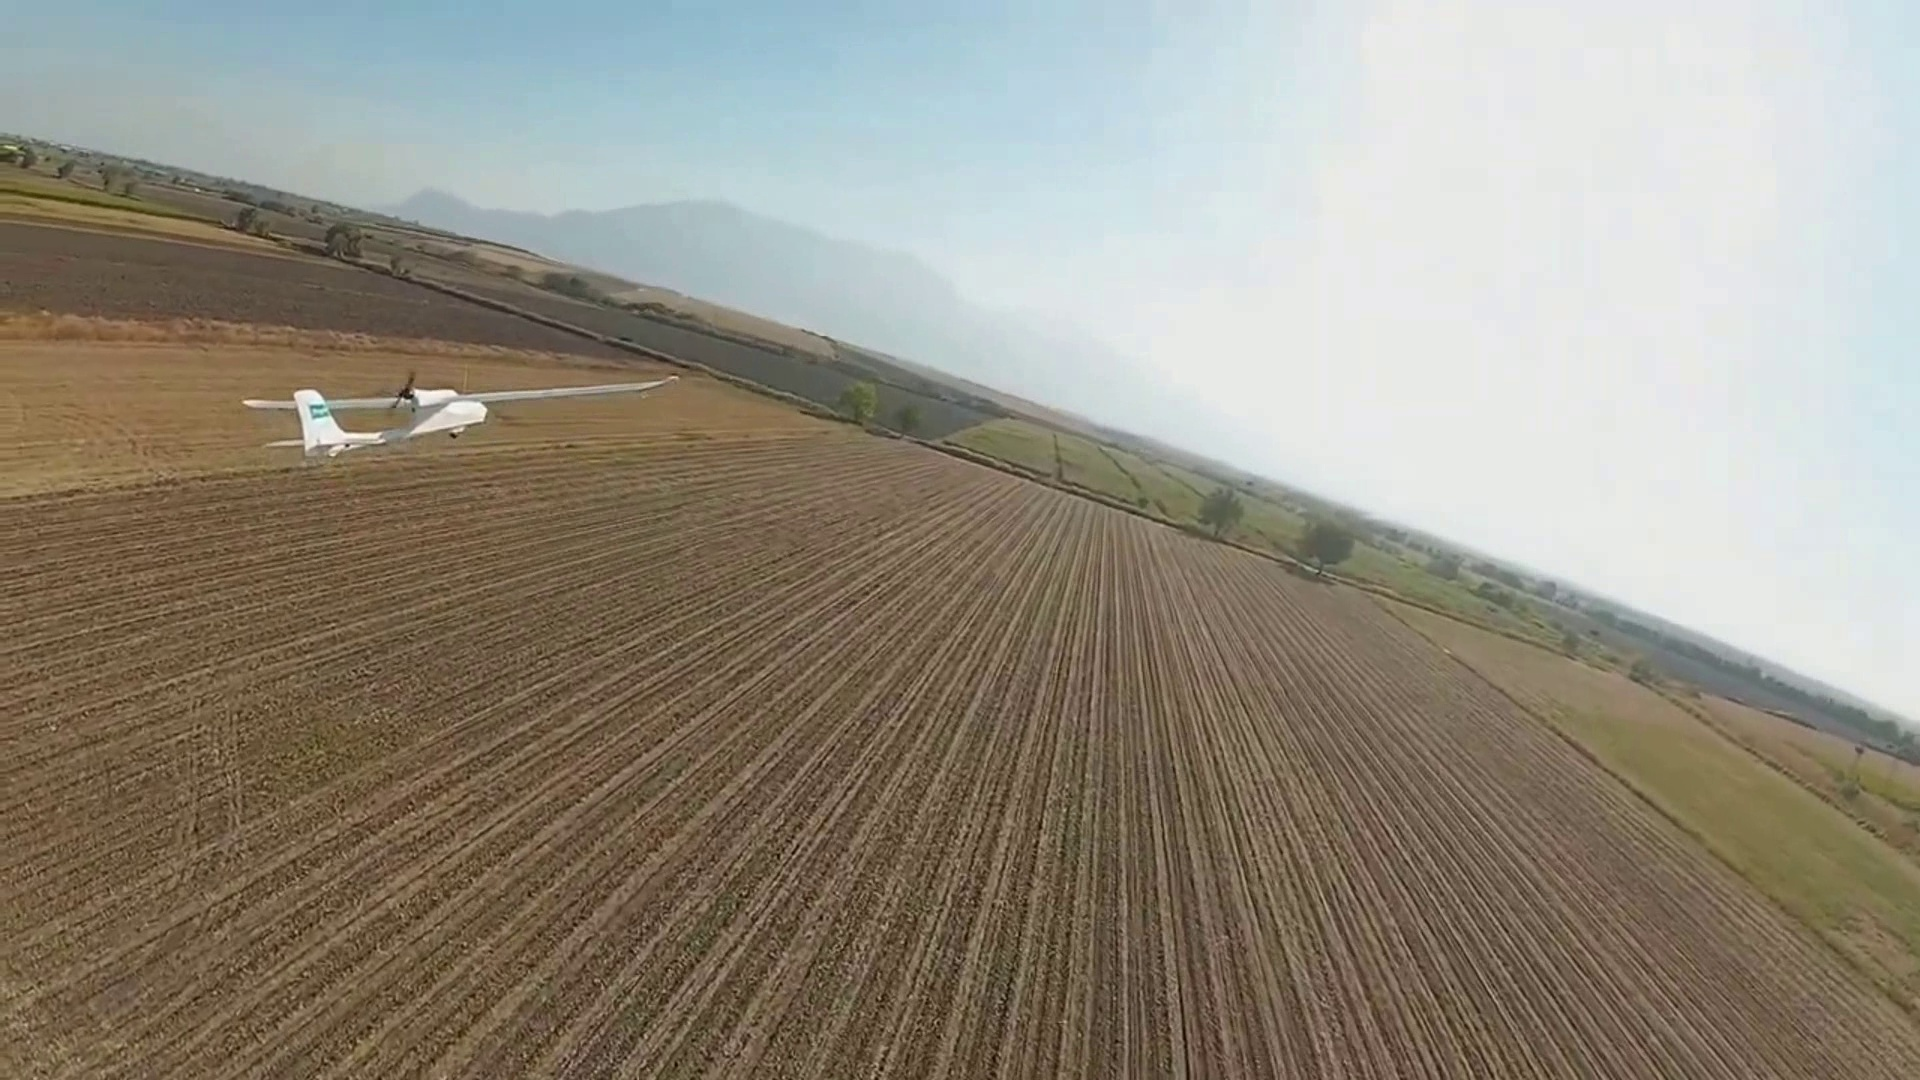airplane: (78, 208, 1913, 808), (243, 377, 611, 460), (248, 376, 488, 458)
